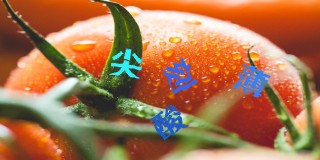刻: (161, 56, 197, 94)
尖: (110, 48, 143, 81)
薄: (234, 62, 271, 100)
酸: (151, 104, 188, 140)
